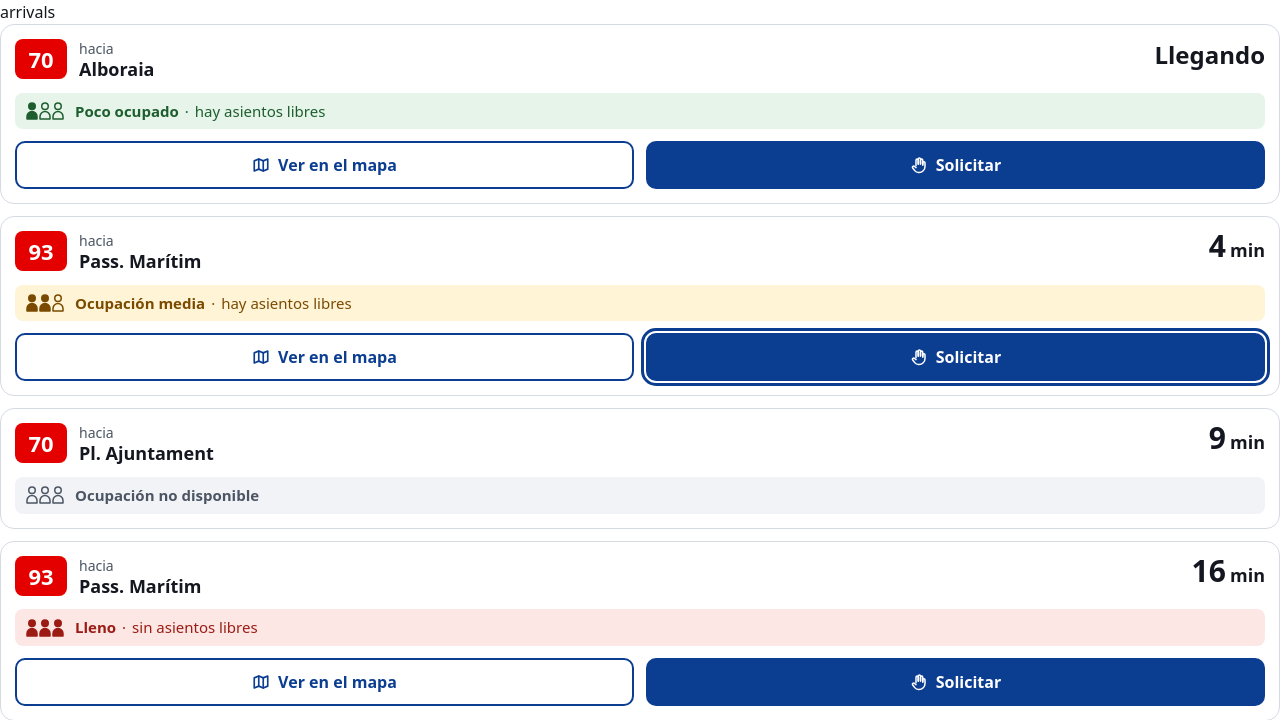
Scenario: RequestDialog › [passenger_alert_ui.AC-06] with 422 the dialog stays open with a focused role="alert" message
Click the button named "Solicitar parada a la línea 93 hacia Passeig Marítim - Hospital Malva-rosa": [956, 357] box [646,333,1265,381]
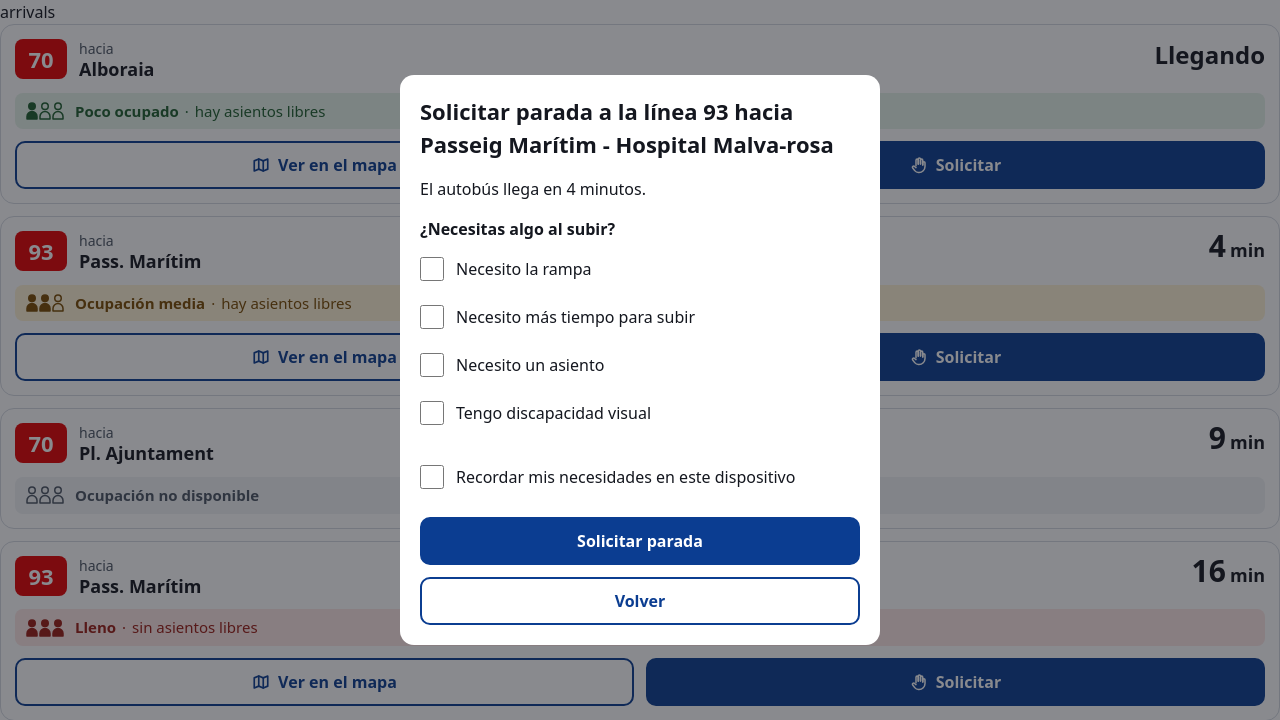
Click the button "Solicitar parada": [640, 541] box [420,517,860,565]
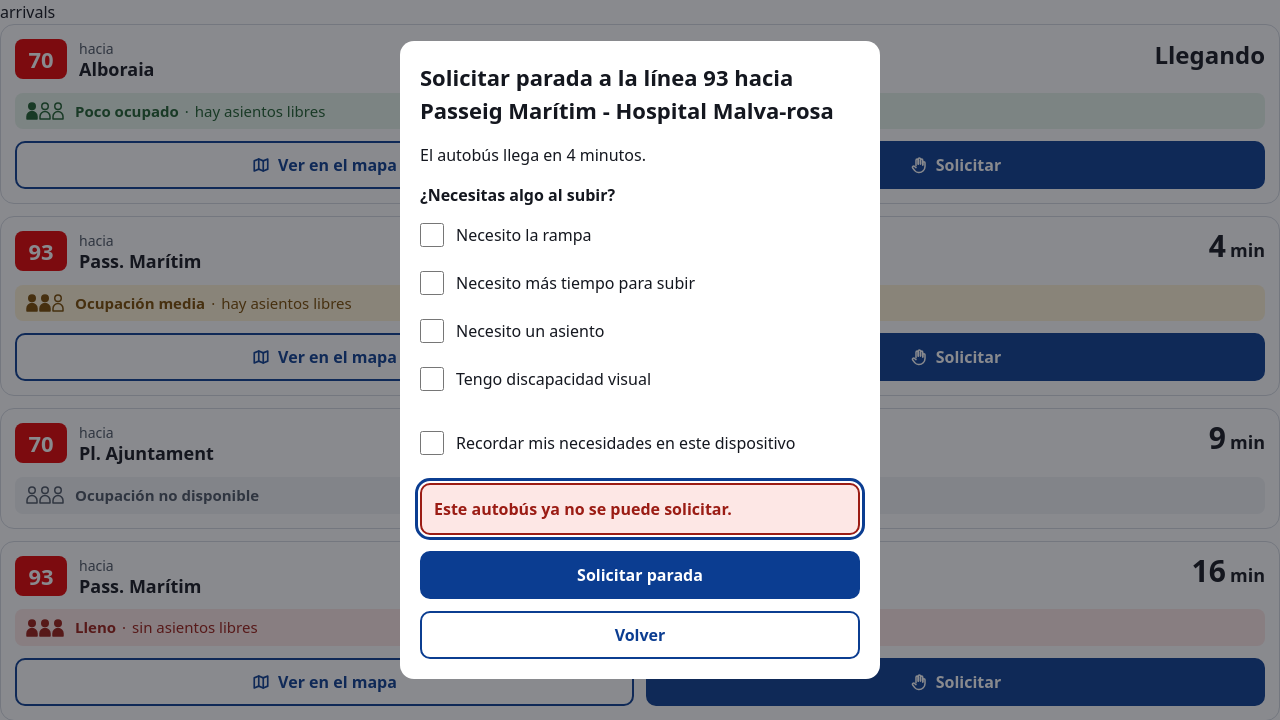
Expected: the button "Solicitar parada" is enabled, [420,551,860,599]
Expected: the message reads "Este autobús ya no se puede solicitar.", [434,498,732,520]
